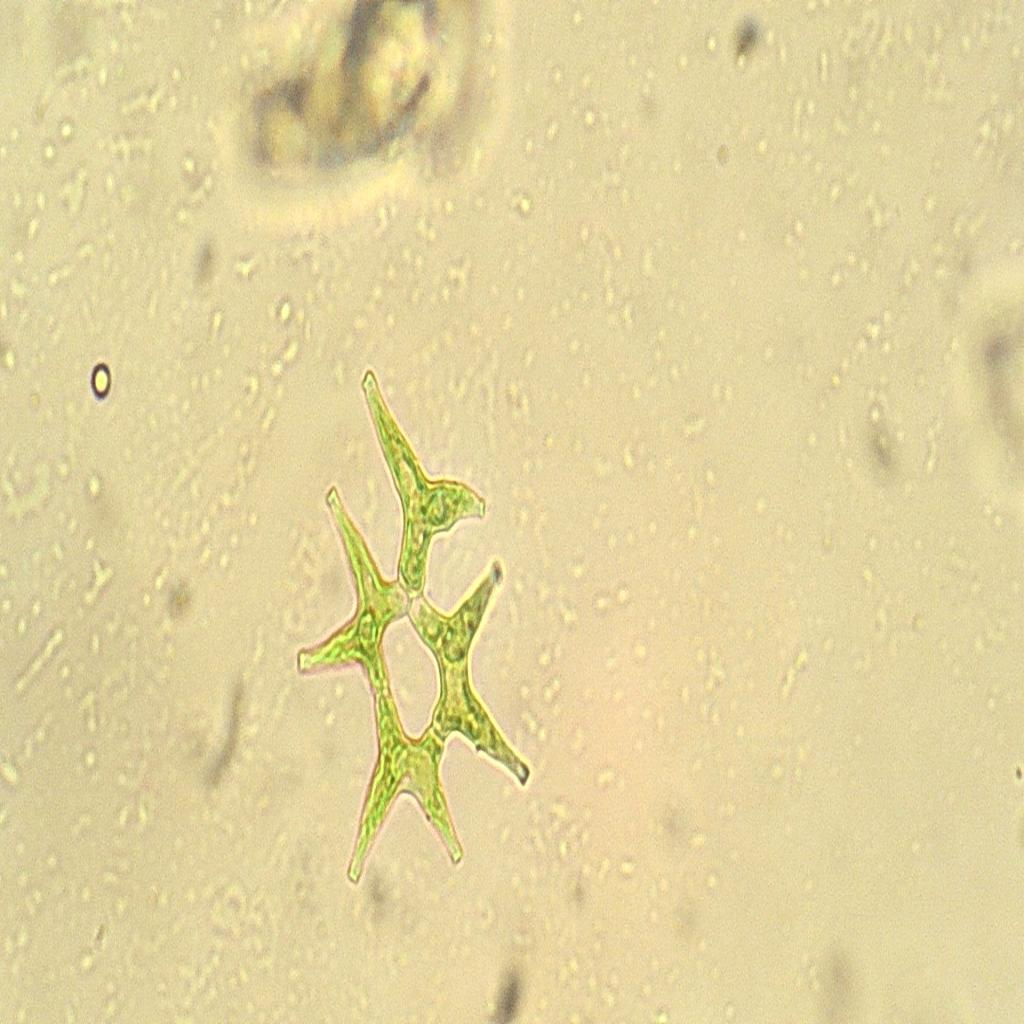Pediastrum_75FI: (289, 330, 534, 920)
